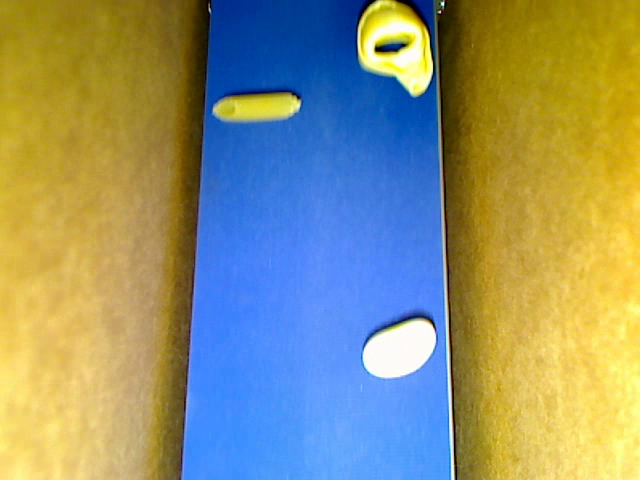penne: (211, 93, 302, 120)
tortellini: (358, 1, 433, 100)
